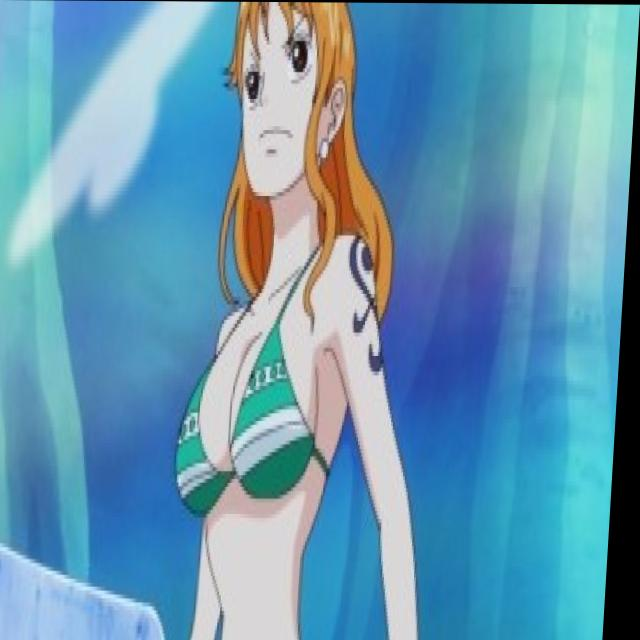Nami: (216, 1, 367, 214)
